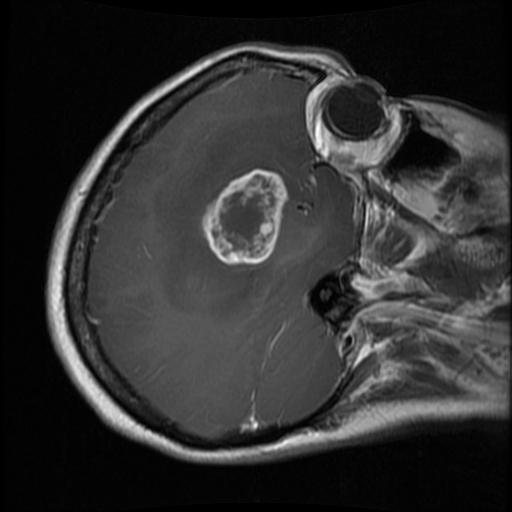glioma: (201, 167, 289, 268)
